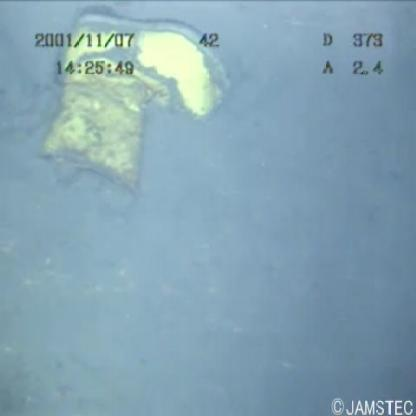Rác: (43, 4, 246, 198)
